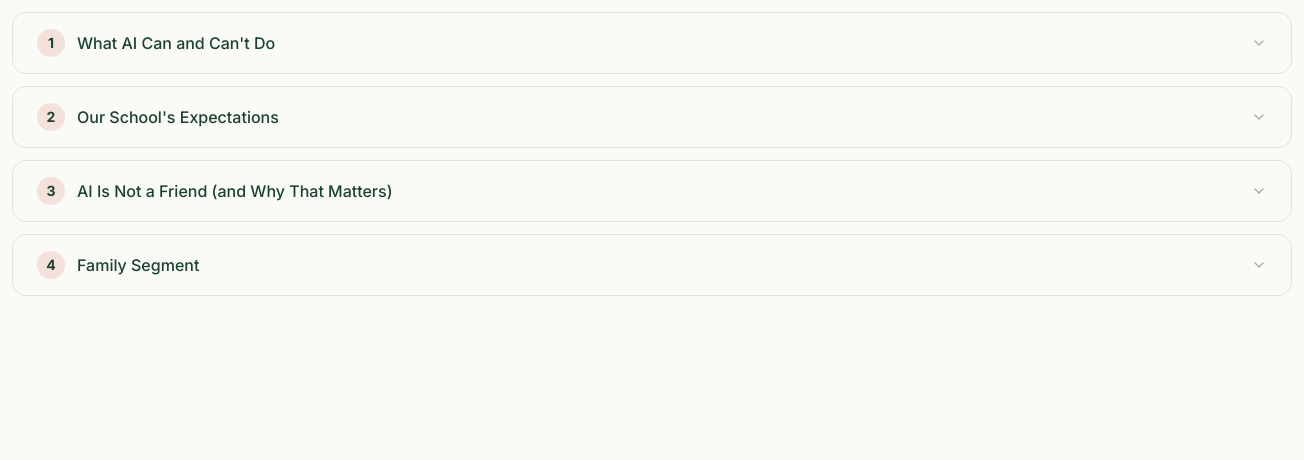
Test: SessionCards › clicking the same session again collapses it
Step 1. Click the text "What AI Can and Can't Do" → click(176, 43), box [77,31,275,55]
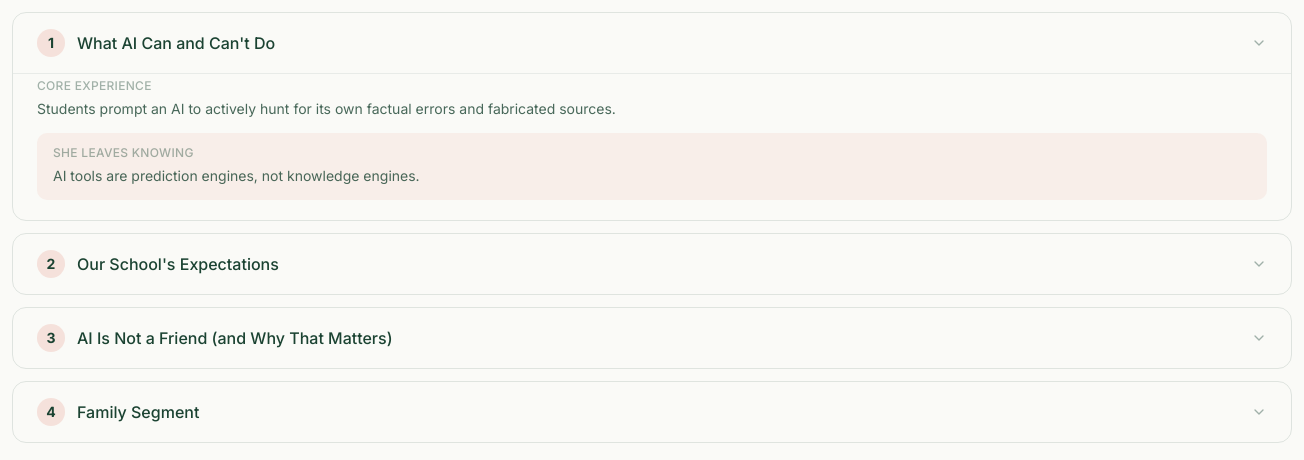
Step 2. Click the text "What AI Can and Can't Do" → click(176, 43), box [77,31,275,55]
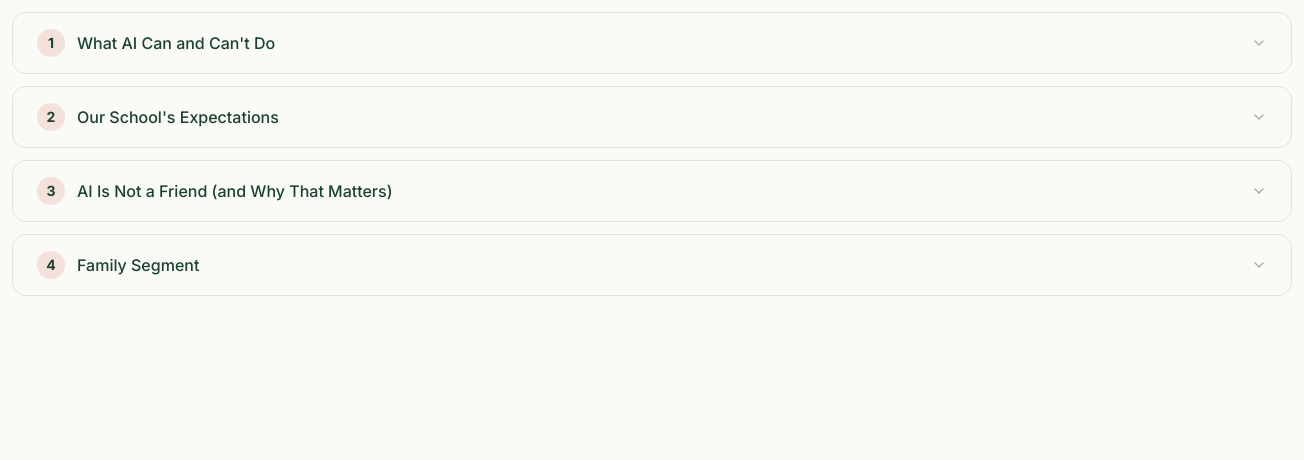
Now the text "prompt an AI to actively hunt" is gone
